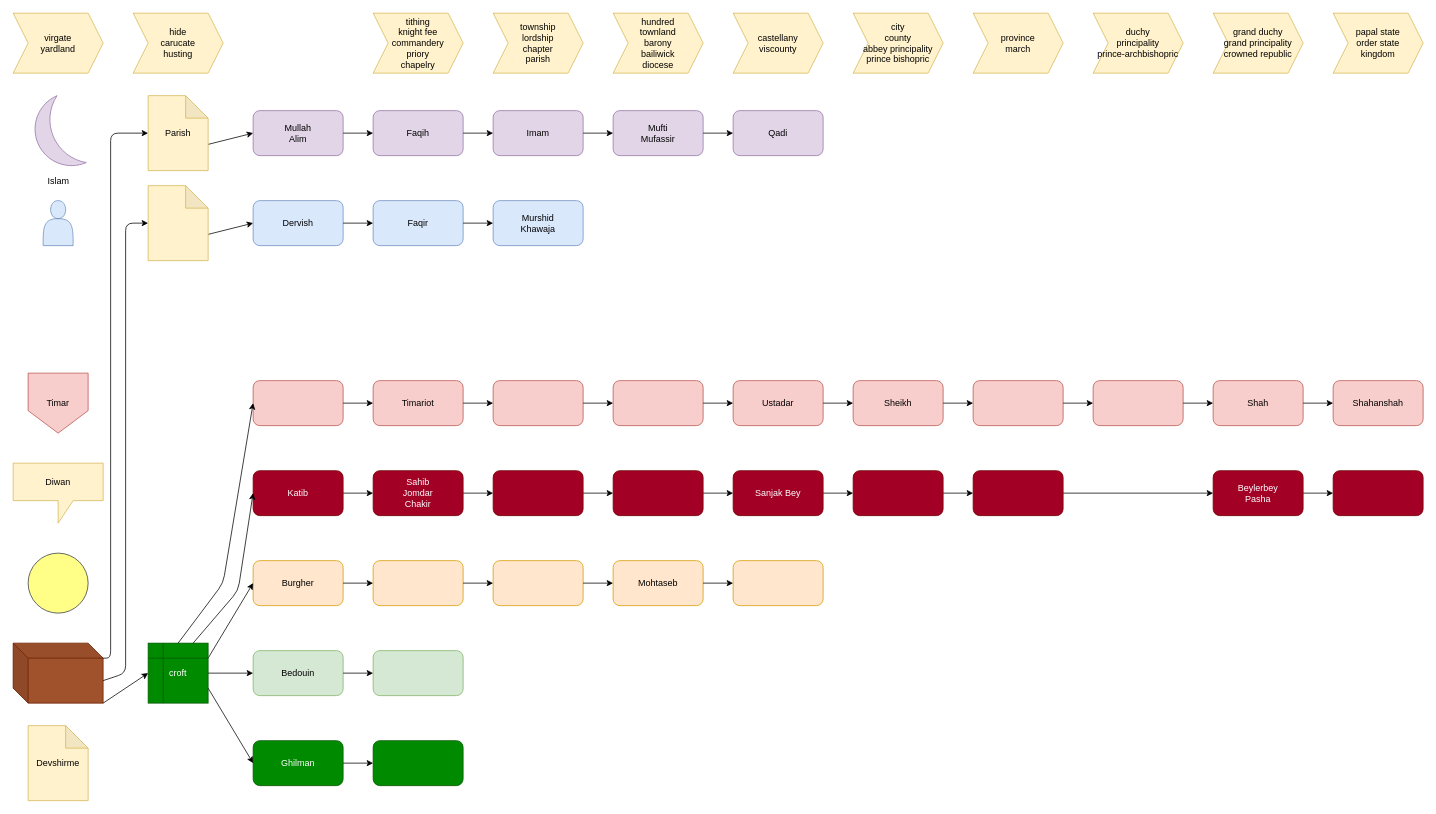
This 1436x814 diagram has some shape labels left out. The shapes that lost their labels are listed below. From the top down, each one's centre as x and y in pixels, then its label:
At [57,223]: "Sufi".
At [177,223]: "School".
At [297,403]: "Sipahi".
At [537,403]: "Sharif Soubashi".
At [657,403]: "Wali Saghir".
At [1017,403]: "Hakim".
At [1137,403]: "Mirza Ilkshid".
At [537,493]: "Hajib Mushrif".
At [657,493]: "Begzade".
At [897,493]: "Bey".
At [1017,493]: "Atabeg".
At [1377,493]: "Sultan".
At [57,582]: "Dinar".
At [417,583]: "Patrician Innkeeper".
At [537,583]: "Khazindar".
At [777,583]: "Murabit".
At [57,672]: "Turco-Persian Manor".
At [417,673]: "Alsiqar".
At [417,763]: "Mamluk Janissary".
